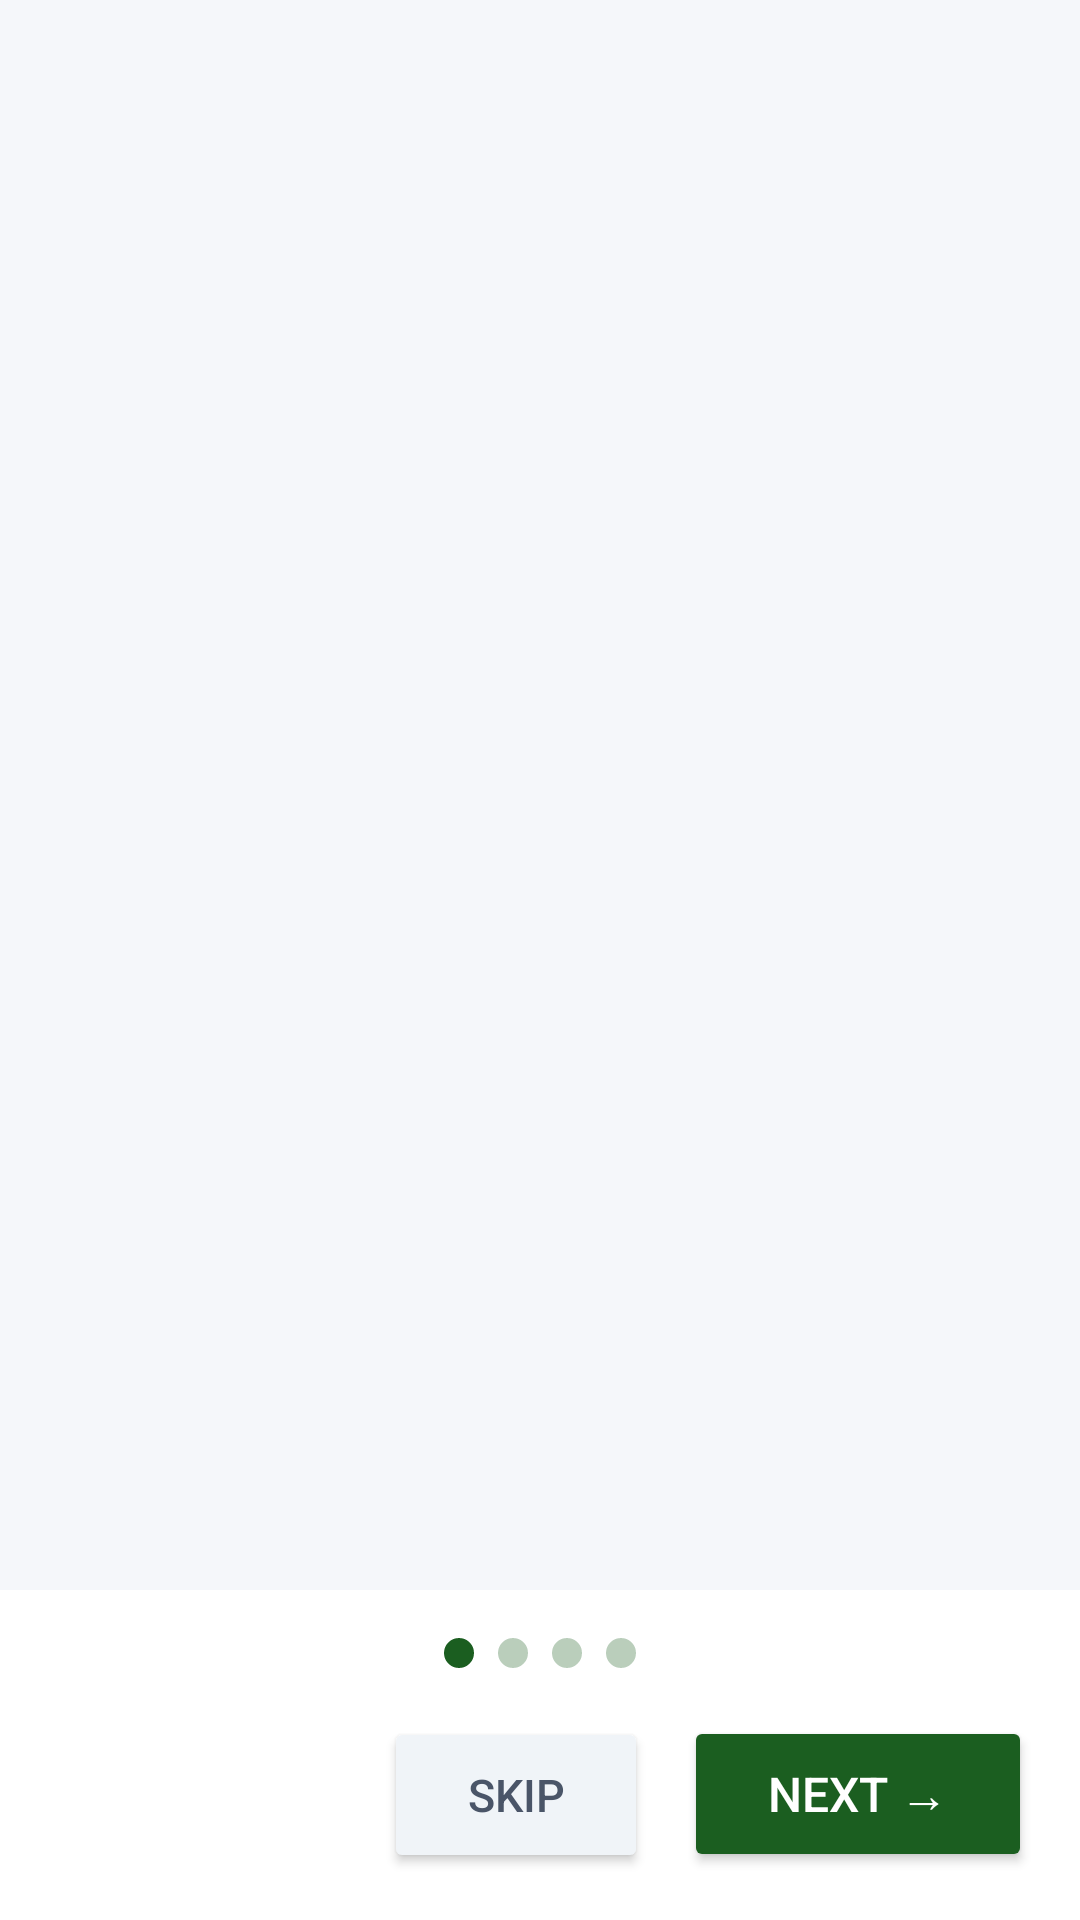

Icons on this 1080 x 1920 Android screen, each with the point to tap as point (x, y):
dot indicator: point (459, 1653), point (513, 1653), point (567, 1653), point (621, 1653)
